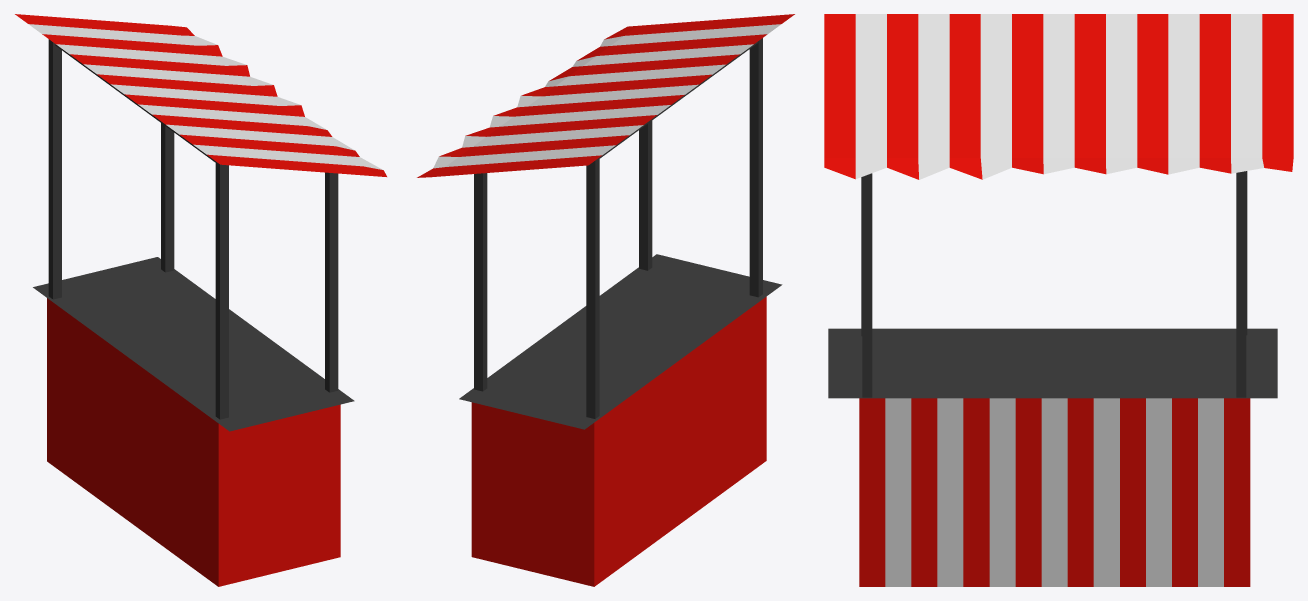
Rendered from jahrmarktstand2.fbx.
3 renders of one model, left to right at view 1: azimuth 30°, elevation 25°; view 2: azimuth 150°, elevation 25°; view 3: azimuth 270°, elevation 25°, orthographic. The views are drawn at different scales.
Visible parts, largest first — view 1: Würfel.001, Fläche.001, Fläche, Würfel.005, Würfel.002, Würfel.003, Würfel.006; view 2: Würfel.001, Fläche.001, Fläche, Würfel.002, Würfel.005, Würfel.006, Würfel.003; view 3: Fläche.001, Würfel.001, Fläche, Würfel.006, Würfel.003.
Part boxes in pixels (box(x1,y1,x2,y2)): Würfel.001: box(47, 298, 340, 586); Fläche.001: box(15, 14, 386, 176); Fläche: box(33, 257, 354, 431); Würfel.005: box(215, 161, 228, 419); Würfel.002: box(48, 39, 61, 299); Würfel.003: box(325, 172, 338, 392); Würfel.006: box(161, 123, 174, 272); Würfel.001: box(471, 296, 766, 586); Fläche.001: box(417, 14, 794, 177); Fläche: box(459, 254, 782, 429); Würfel.002: box(586, 157, 599, 418); Würfel.005: box(749, 38, 762, 297); Würfel.006: box(474, 173, 487, 391); Würfel.003: box(639, 121, 652, 270); Fläche.001: box(824, 14, 1293, 179); Würfel.001: box(859, 398, 1250, 586); Fläche: box(828, 328, 1277, 398); Würfel.006: box(1236, 171, 1246, 397); Würfel.003: box(862, 173, 872, 397).
Bounding box in the file's own units: 84.94 × 199 × 170.
